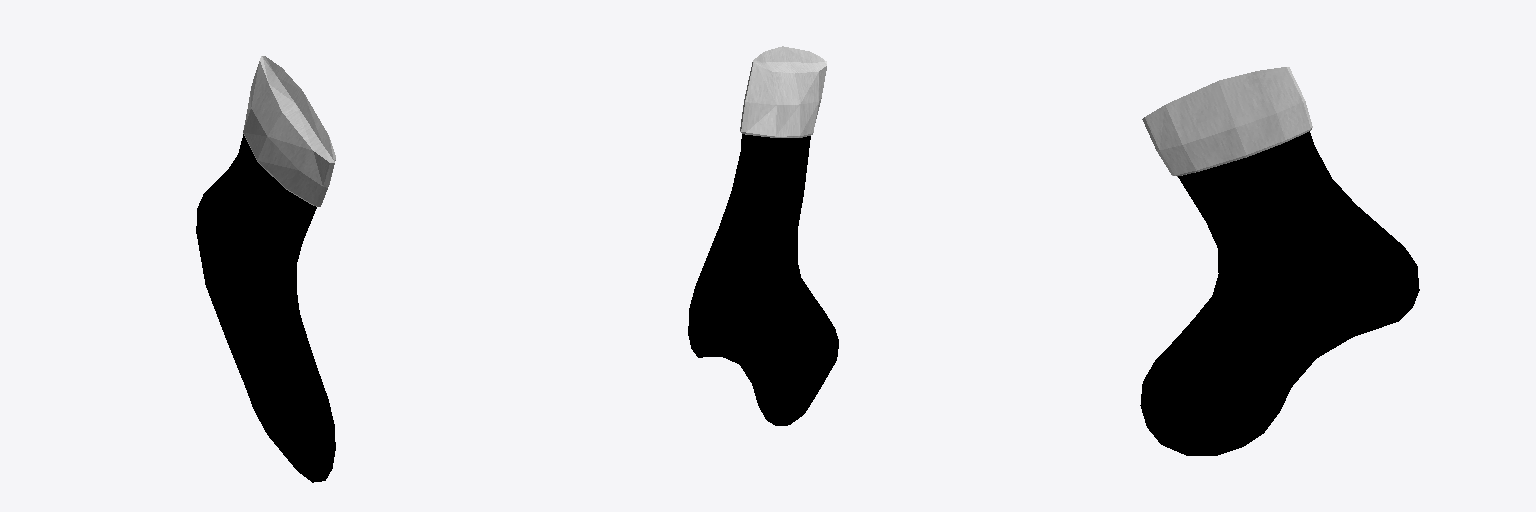
3 renders of one model, left to right at view 1: azimuth 30°, elevation 25°; view 2: azimuth 150°, elevation 25°; view 3: azimuth 270°, elevation 25°, orthographic.
Visible parts, largest first — view 1: polySurface16; view 2: polySurface16; view 3: polySurface16.
Boxes of the visible parts, box(x1,y1,x2,y2) form: polySurface16: box(196, 56, 335, 482); polySurface16: box(688, 46, 838, 425); polySurface16: box(1140, 67, 1419, 455).
Size of the model in its own units: 0.1158 by 0.8368 by 0.5427.
Materials: 2 (1 with a texture image).